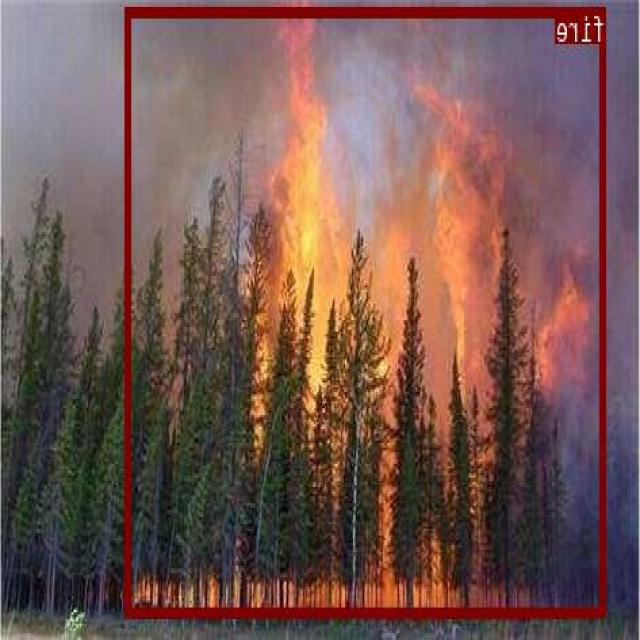fire: (127, 6, 607, 615)
